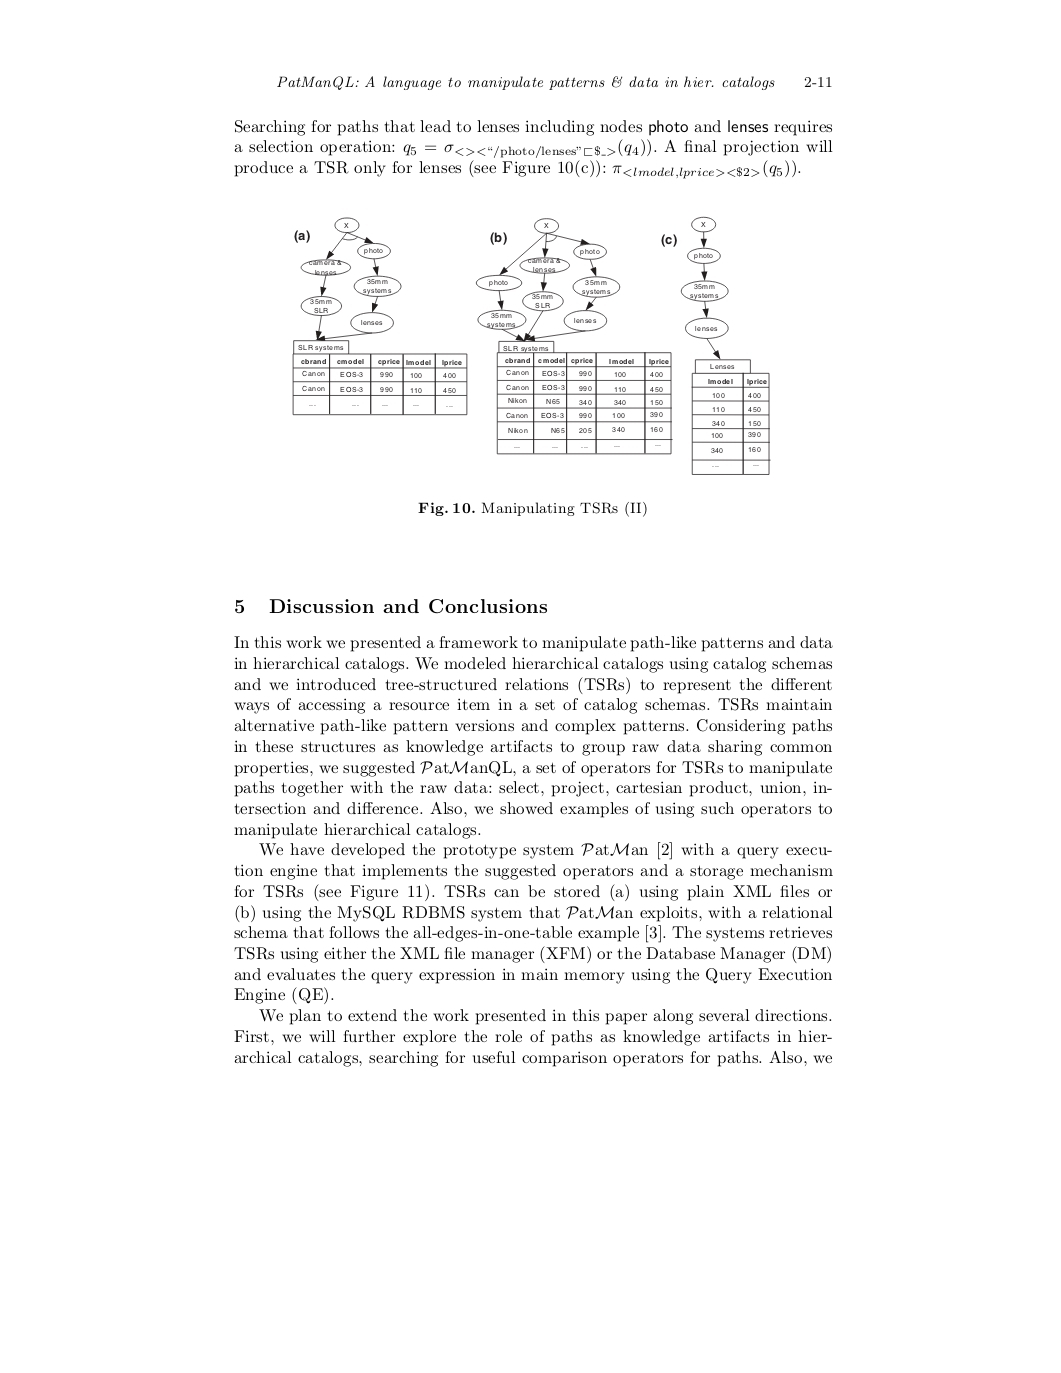figure: (477, 218, 676, 454), (292, 217, 467, 415), (682, 216, 770, 474)
